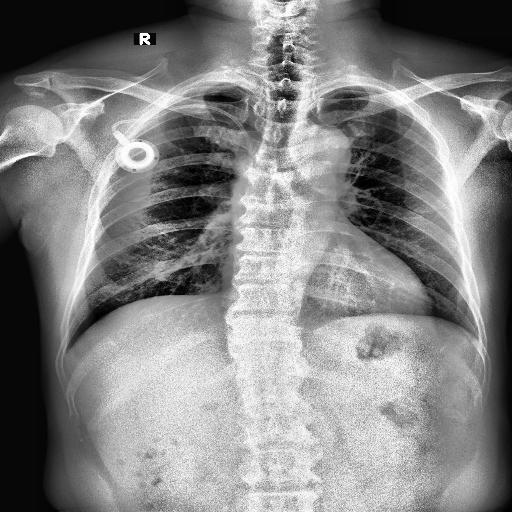0- Aortic enlargement: (290, 122, 350, 182), (296, 126, 352, 174), (308, 122, 350, 172)
